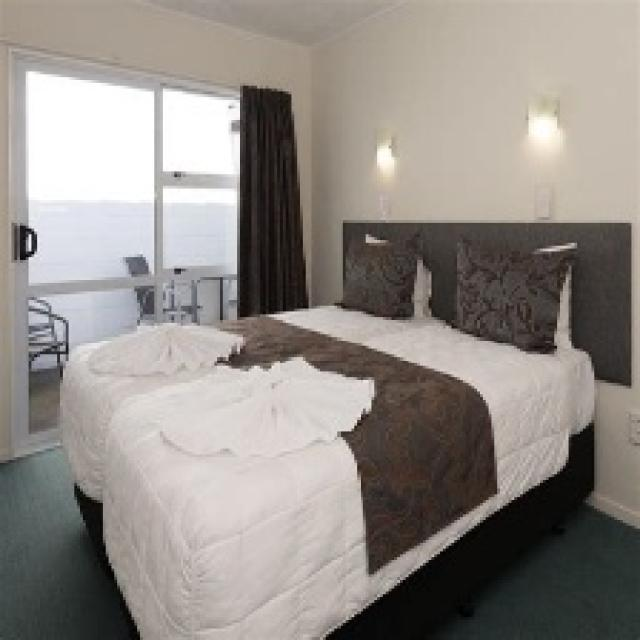Bed: (57, 220, 632, 637)
